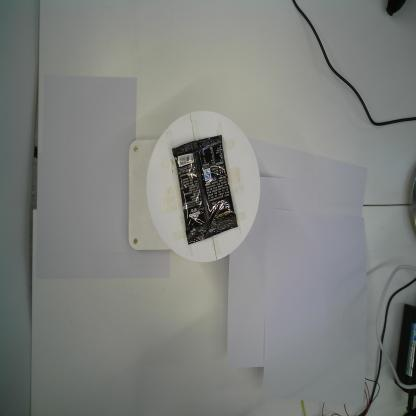Instant Drink: (172, 135, 238, 245)
